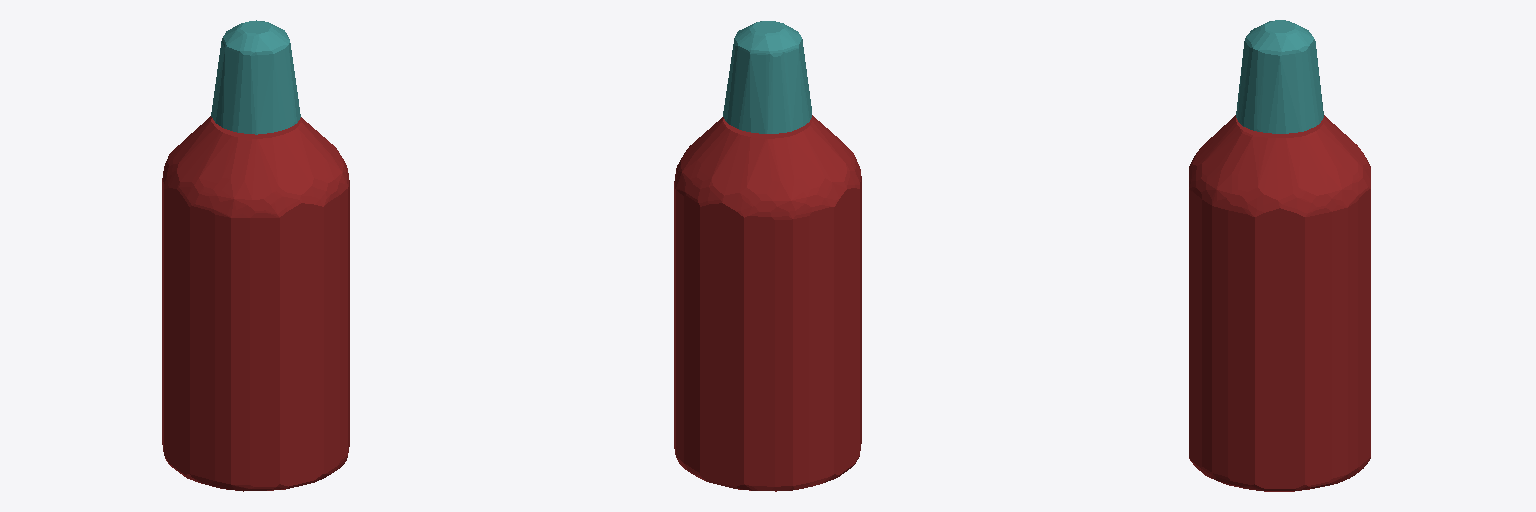
The robot description file, URDF, robot "root":
<robot name="root">
  <link name="bottle_body">
    <inertial>
      <origin xyz="0 0 0" rpy="0 0 0"/>
    </inertial>
    <mass value="1.00E-02"/>
    <visual>
      <origin xyz="0 0 0" rpy="0 0 0"/>
      <geometry>
        <mesh filename="core-bottle-ee77714471b911baeeff0dee910fd183-coacd_convex_piece_1.obj" scale="1.0000E-01 1.0000E-01 1.0000E-01"/>
      </geometry>
      <material name="">
        <color rgba="6.00E-01 2.00E-01 2.00E-01 1"/>
      </material>
    </visual>
    <collision>
      <origin xyz="0 0 0" rpy="0 0 0"/>
      <geometry>
        <mesh filename="core-bottle-ee77714471b911baeeff0dee910fd183-coacd_convex_piece_1.obj" scale="1.0000E-01 1.0000E-01 1.0000E-01"/>
      </geometry>
    </collision>
  </link>
  <link name="bottle_cap">
    <origin xyz="0 0 0.002" rpy="0 0 0"/>
    <mass value="1.00E-02"/>
    <visual>
      <origin xyz="0 0 0.002" rpy="0 0 0"/>
      <geometry>
        <mesh filename="core-bottle-ee77714471b911baeeff0dee910fd183-coacd_convex_piece_0.obj" scale="1.0000E-01 1.0000E-01 1.0000E-01"/>
      </geometry>
      <material name="">
        <color rgba="3.00E-01 6.00E-01 6.00E-01 1"/>
      </material>
    </visual>
    <collision>
      <origin xyz="0 0 0.002" rpy="0 0 0"/>
      <geometry>
        <mesh filename="core-bottle-ee77714471b911baeeff0dee910fd183-coacd_convex_piece_0.obj" scale="1.0000E-01 1.0000E-01 1.0000E-01"/>
      </geometry>
    </collision>
  </link>
  <joint name="bottle_cap_joint" type="revolute">
    <origin xyz="0 0 0" rpy="0 0 0"/>
    <parent link="bottle_body"/>
    <child link="bottle_cap"/>
    <axis xyz="0 0 1"/>
    <limit lower="0.00" upper="6.28"/>
    <dynamics damping="0.05"/>
  </joint>
</robot>

--- Render facts (derived) ---
The picture shows the robot from 3 angles, left to right: view 1: azimuth 30°, elevation 25°; view 2: azimuth 150°, elevation 25°; view 3: azimuth 270°, elevation 25°; orthographic projection.
Robot: root — 2 links, 1 joints (1 revolute); root link bottle_body; default pose: all joints at 0.
Visible links, largest first — view 1: bottle_body, bottle_cap; view 2: bottle_body, bottle_cap; view 3: bottle_body, bottle_cap.
Link boxes in pixels (x1,y1,x2,y2): bottle_body: (162, 116, 349, 491); bottle_cap: (211, 20, 300, 134); bottle_body: (674, 115, 861, 491); bottle_cap: (723, 21, 811, 133); bottle_body: (1189, 115, 1370, 491); bottle_cap: (1236, 20, 1323, 133).
Bounding box of the posed robot: 0.0721 × 0.0721 × 0.1862 m (x, y, z).
Meshes: 2 distinct files referenced, 2 mesh visuals loaded (2 OBJ).